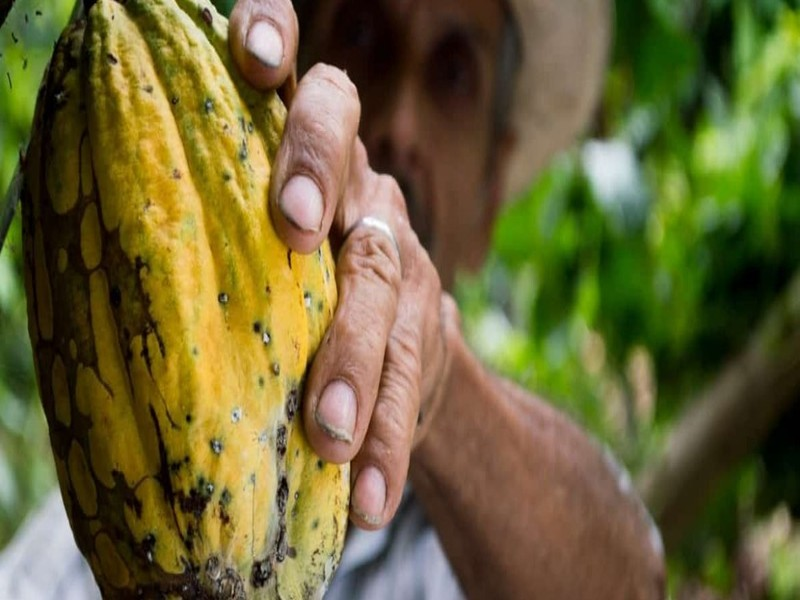Cacaopod: (20, 1, 333, 600)
